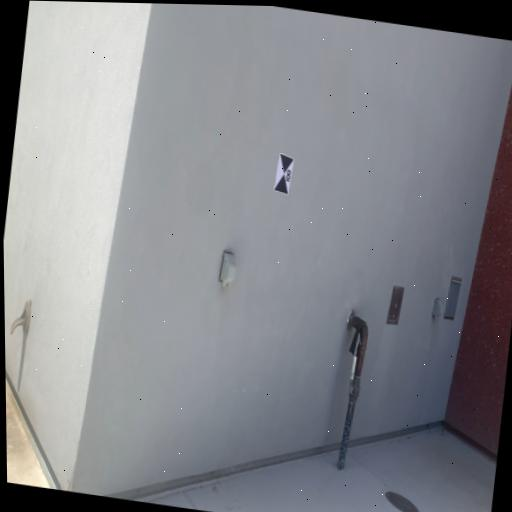target8: (272, 153, 296, 197)
